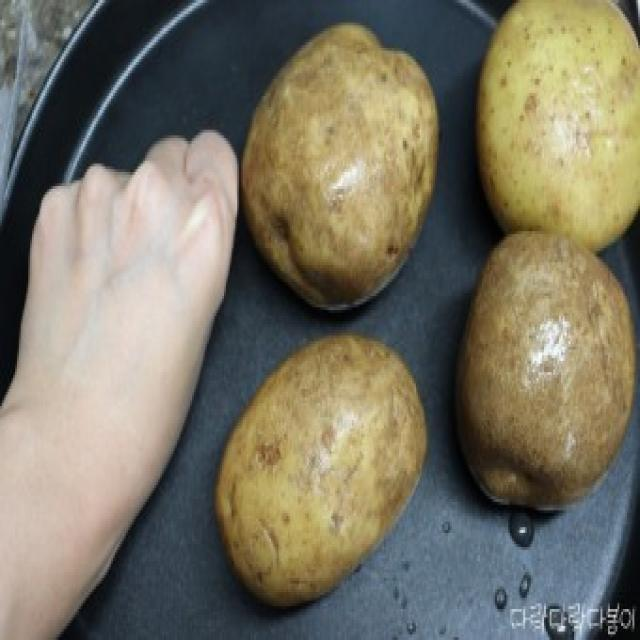potato: (233, 13, 447, 314), (212, 330, 426, 616), (452, 224, 640, 517), (470, 0, 640, 248)
